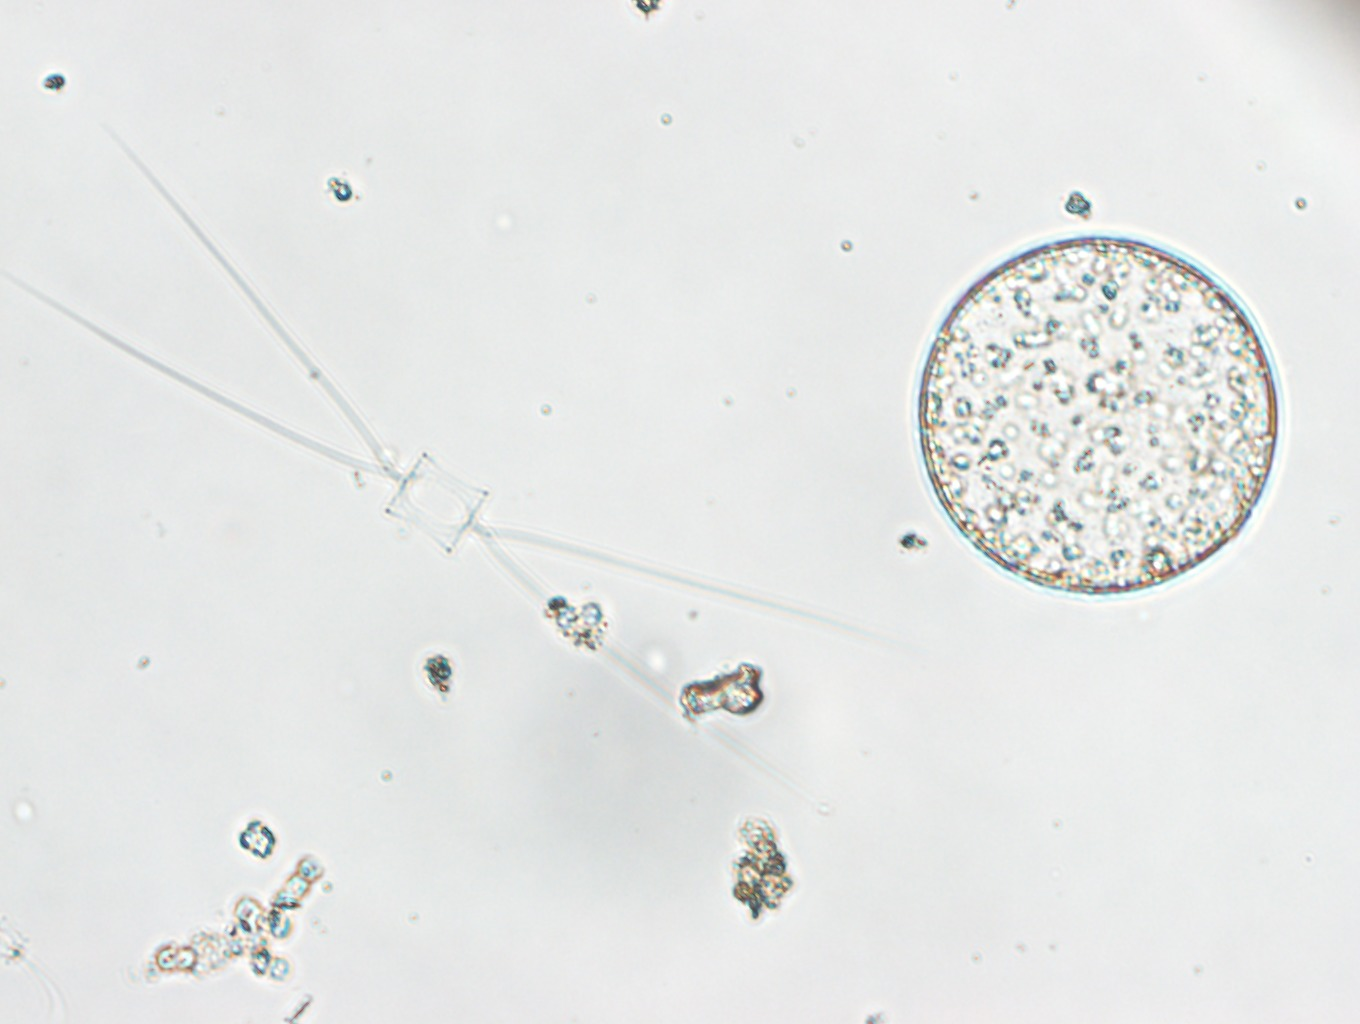chaetoceros: (4, 127, 901, 790)
coscinodiscus: (913, 231, 1280, 599)
